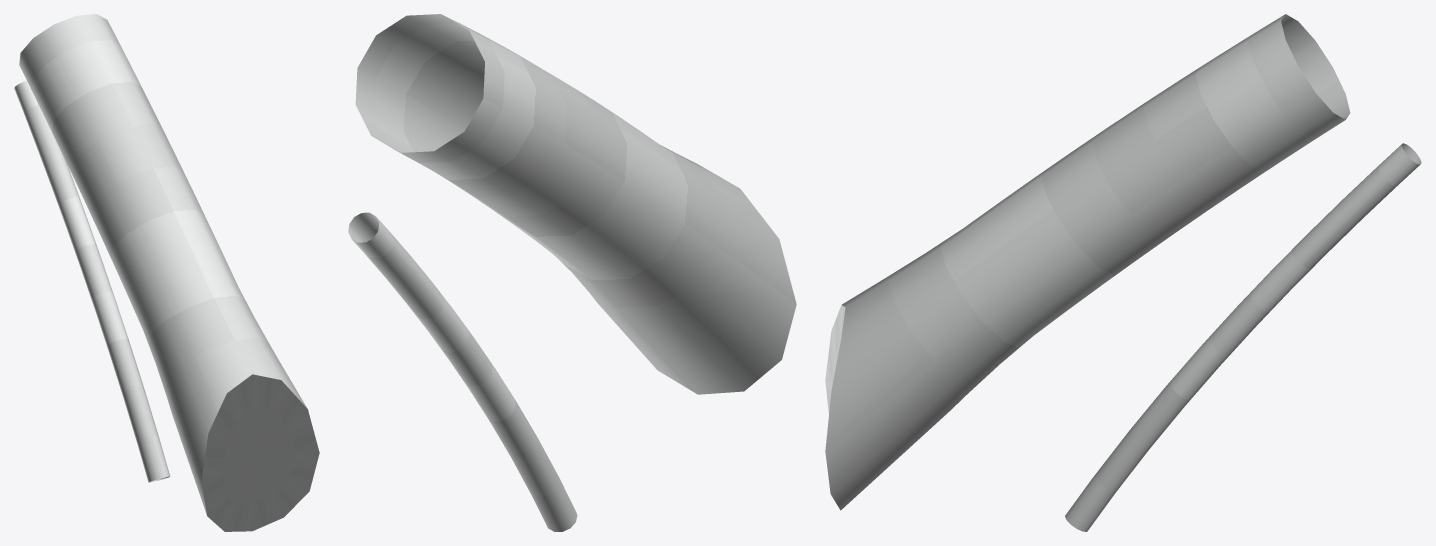
File: luminairearm_laupsweep10ft_c0.obj
3 views of the same model, side by side, from view 1: azimuth 30°, elevation 25°; view 2: azimuth 150°, elevation 25°; view 3: azimuth 270°, elevation 25° (orthographic). The views are drawn at different scales.
Visible parts, largest first — view 1: luminairearm_laupsweep10ft_c0; view 2: luminairearm_laupsweep10ft_c0; view 3: luminairearm_laupsweep10ft_c0.
Part boxes in pixels (x1,y1,x2,y2): luminairearm_laupsweep10ft_c0: (14, 14, 319, 531); luminairearm_laupsweep10ft_c0: (348, 14, 796, 531); luminairearm_laupsweep10ft_c0: (825, 14, 1421, 531).
Bounding box in the file's own units: 0.3375 × 1.12 × 1.19.
